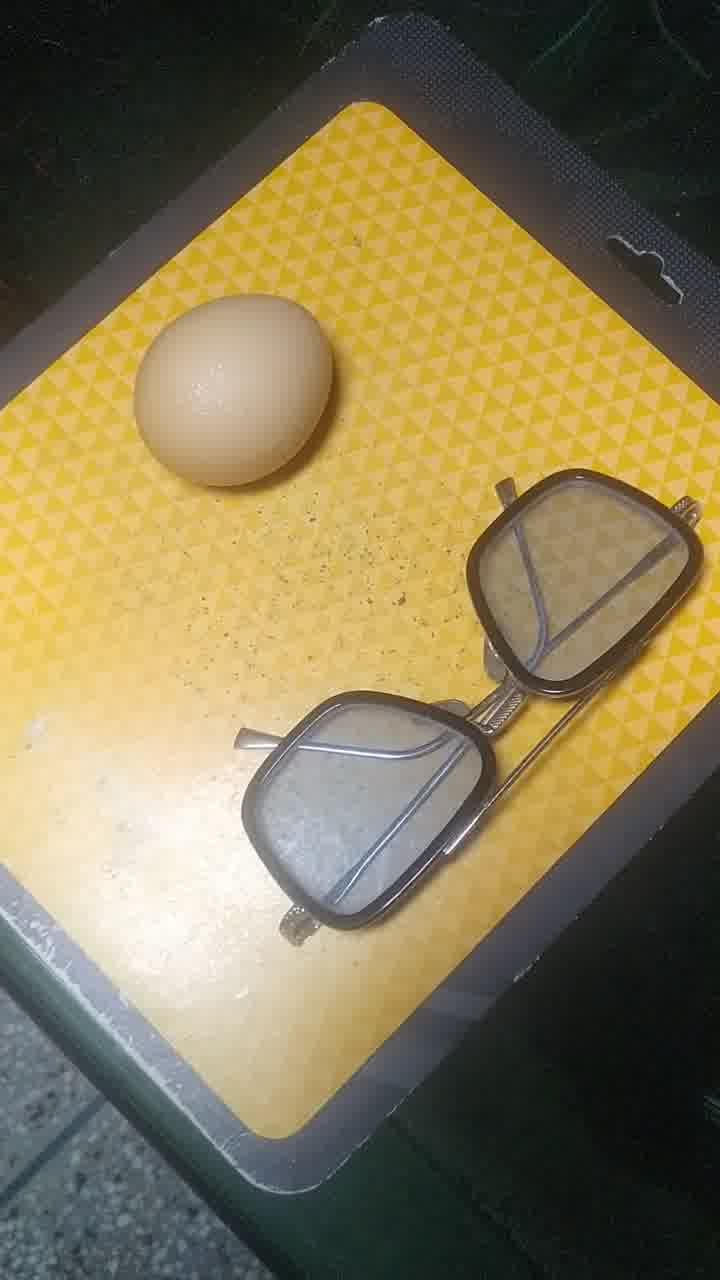egg: (131, 290, 346, 496)
sunglass: (180, 470, 720, 944)
